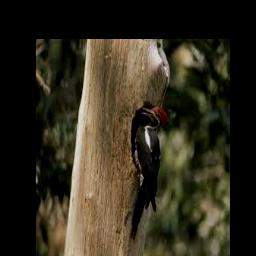Woodpecker: (130, 106, 167, 240)
